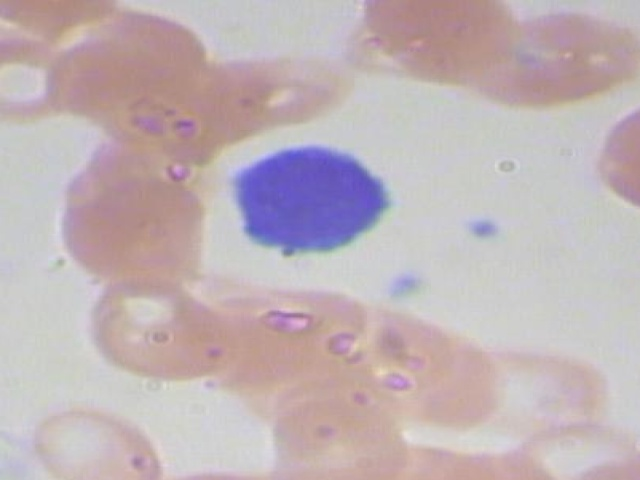Platelets: (455, 213, 510, 245), (374, 266, 428, 298)
RBC: (302, 304, 470, 422), (209, 272, 377, 389), (442, 326, 618, 437), (64, 277, 238, 387), (50, 173, 214, 282), (477, 8, 640, 110), (212, 36, 368, 137), (93, 62, 248, 163), (337, 0, 522, 83), (30, 392, 176, 480), (265, 392, 411, 480), (578, 92, 640, 232), (0, 32, 77, 131), (0, 0, 139, 32)
WBC: (227, 140, 396, 264)
